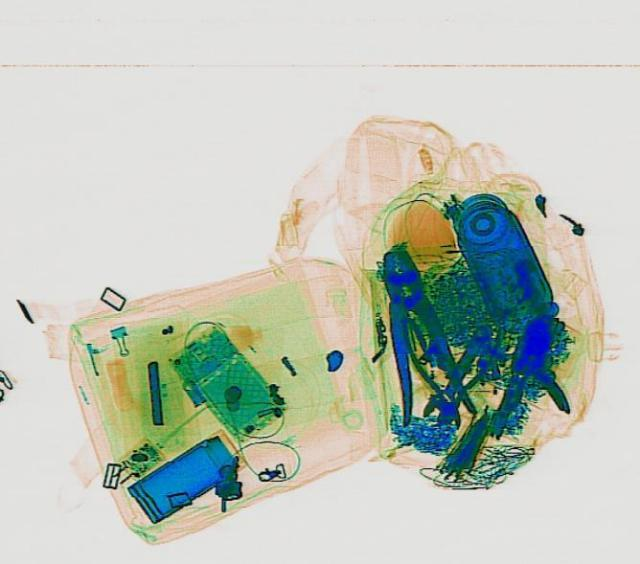Pliers: (354, 243, 476, 425), (390, 304, 502, 429)
Wrench: (417, 320, 498, 423)
